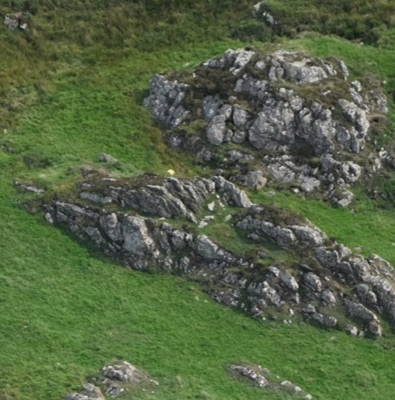white_in_green: (152, 152, 191, 187)
